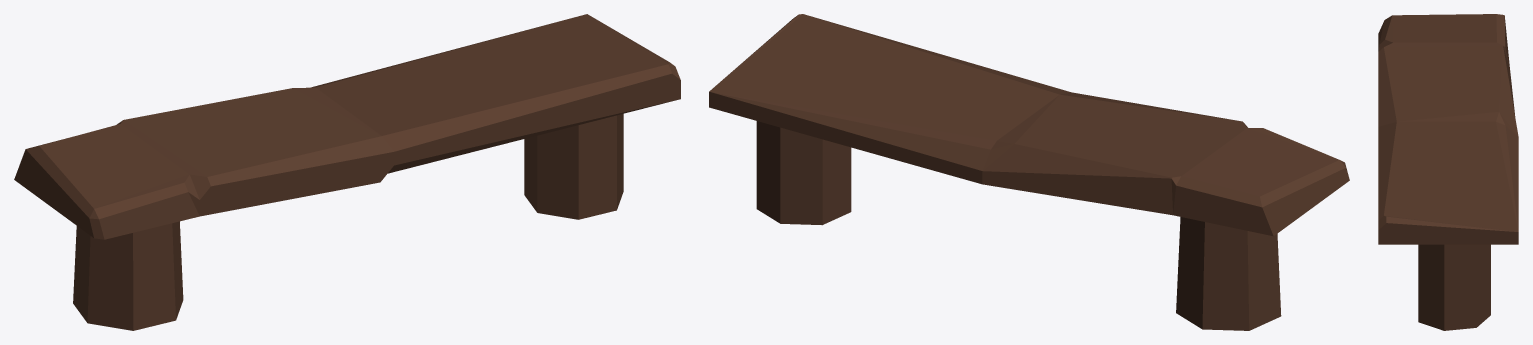
The model's file is Bench_1.fbx.
The picture shows the model from 3 angles, left to right: view 1: azimuth 30°, elevation 25°; view 2: azimuth 150°, elevation 25°; view 3: azimuth 270°, elevation 25°; orthographic projection. The views are drawn at different scales.
Parts seen in each view (by area): view 1: Bench_1; view 2: Bench_1; view 3: Bench_1.
Boxes of the visible parts, x1,y1,x2,y2 form: Bench_1: (14,14,680,330); Bench_1: (709,14,1349,330); Bench_1: (1378,14,1518,330).
Bounding box in the file's own units: 2.04 × 0.5239 × 0.5682.
